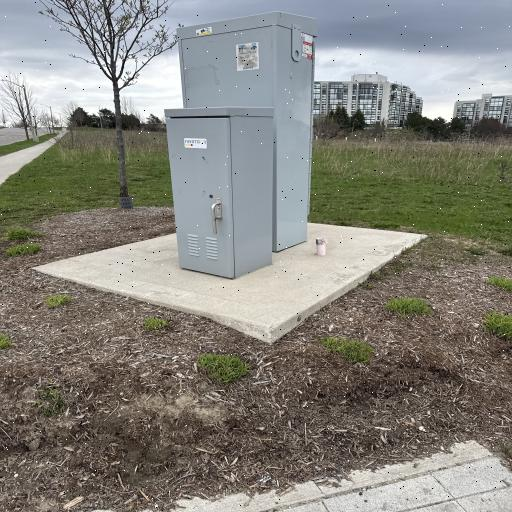Electrical Box: (164, 12, 318, 278)
